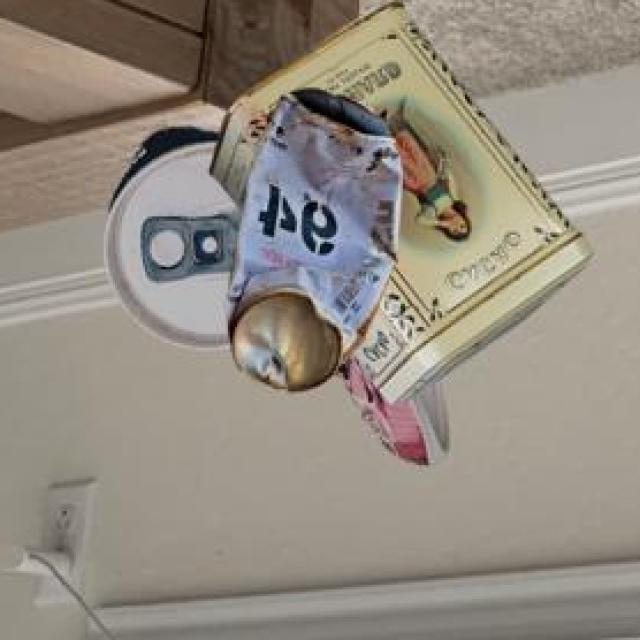logam: (206, 6, 588, 409), (100, 130, 445, 468), (222, 93, 397, 395)
